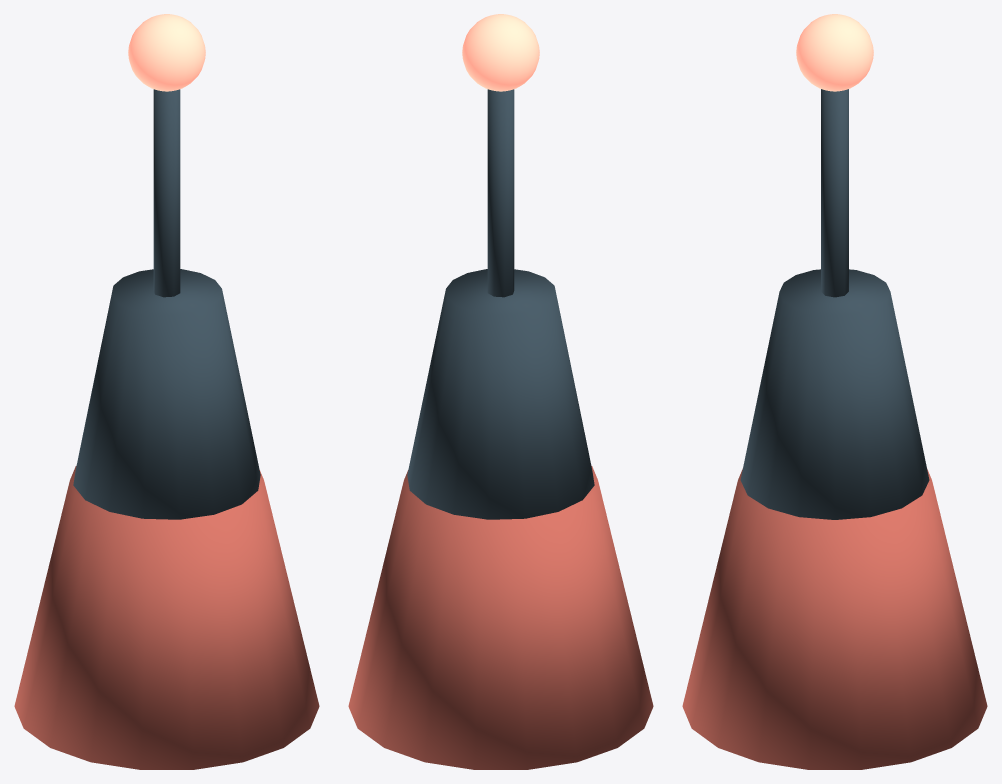
The model's file is channel_buoy.glb.
The picture shows the model from 3 angles, left to right: view 1: azimuth 30°, elevation 25°; view 2: azimuth 150°, elevation 25°; view 3: azimuth 270°, elevation 25°; orthographic projection.
Parts seen in each view (by area): view 1: Base, Mid, Mast, Light; view 2: Base, Mid, Mast, Light; view 3: Base, Mid, Mast, Light.
Boxes of the visible parts, x1,y1,x2,y2 form: Base: [14, 466, 319, 769]; Mid: [73, 269, 260, 519]; Mast: [153, 89, 180, 297]; Light: [128, 14, 205, 91]; Base: [348, 466, 653, 769]; Mid: [407, 269, 594, 519]; Mast: [487, 89, 514, 297]; Light: [462, 14, 539, 91]; Base: [682, 468, 987, 769]; Mid: [740, 269, 929, 519]; Mast: [821, 89, 848, 297]; Light: [796, 14, 873, 91].
Bounding box in the file's own units: 1.08 × 2.74 × 1.1.
